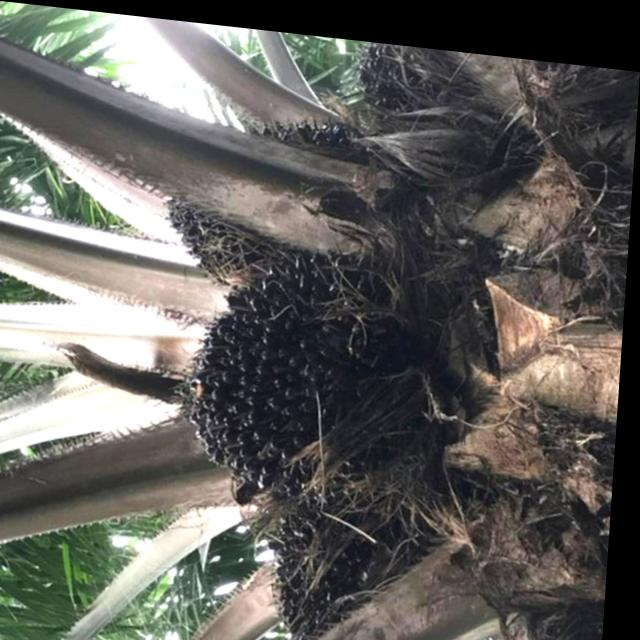almost: (174, 238, 425, 493), (148, 96, 360, 303), (264, 488, 477, 640), (351, 31, 448, 124)
